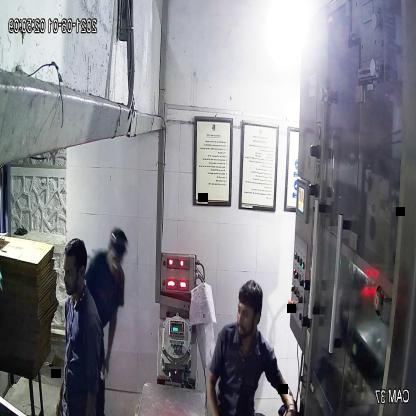no_goggles: (234, 302, 265, 324)
